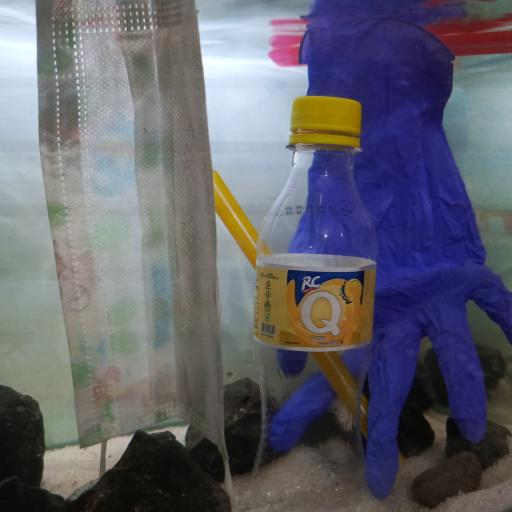bottle_cap: (291, 95, 361, 134)
glove: (273, 20, 512, 496)
mask: (35, 2, 229, 443)
plastic_bottle: (252, 93, 376, 511)
plastic_straw: (214, 171, 382, 445), (264, 27, 512, 63)
